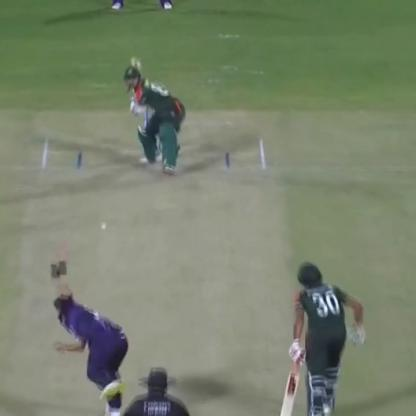ball: (94, 215, 108, 232)
bat: (278, 346, 299, 414), (125, 53, 144, 104)
pitch: (4, 132, 282, 412)
